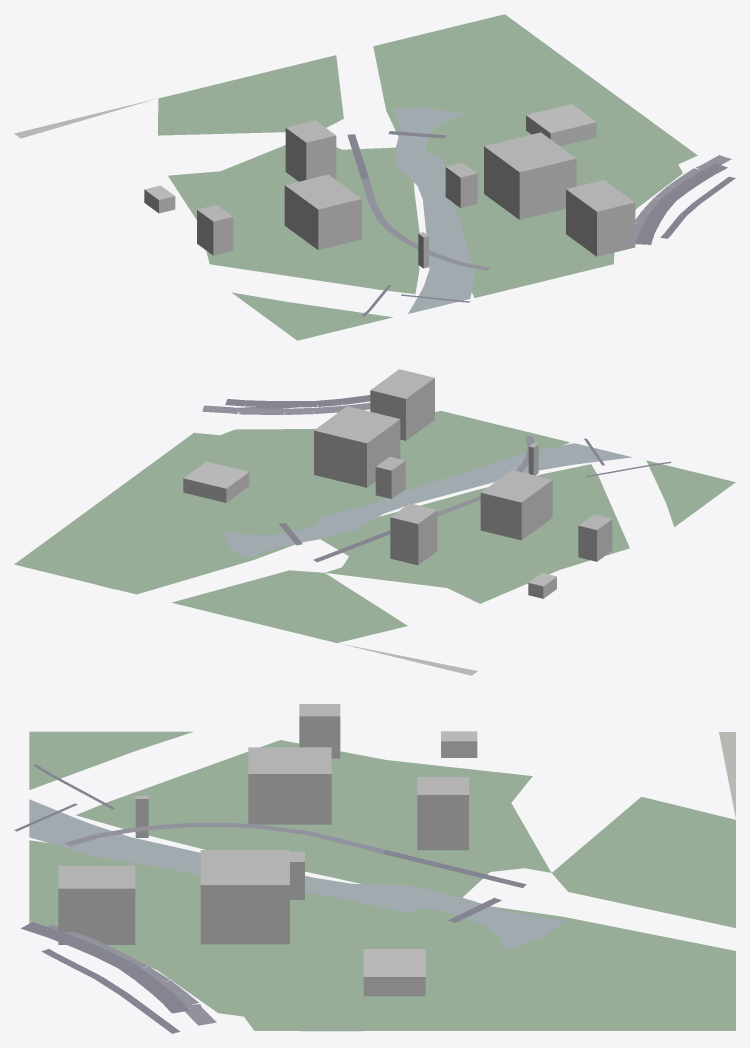
Rendered from 116_114_mid.glb.
The picture shows the model from 3 angles, top to bottom: view 1: azimuth 30°, elevation 25°; view 2: azimuth 150°, elevation 25°; view 3: azimuth 270°, elevation 25°; orthographic projection. The views are drawn at different scales.
Bounding box in the file's own units: 512 × 46.75 × 511.
